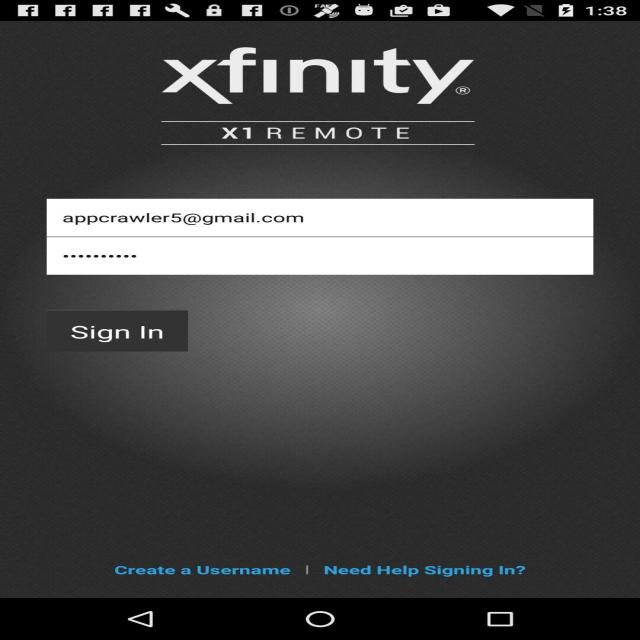button: (92, 542, 573, 584), (29, 302, 234, 367)
icon: (136, 46, 515, 164)
text: (34, 184, 604, 278)
